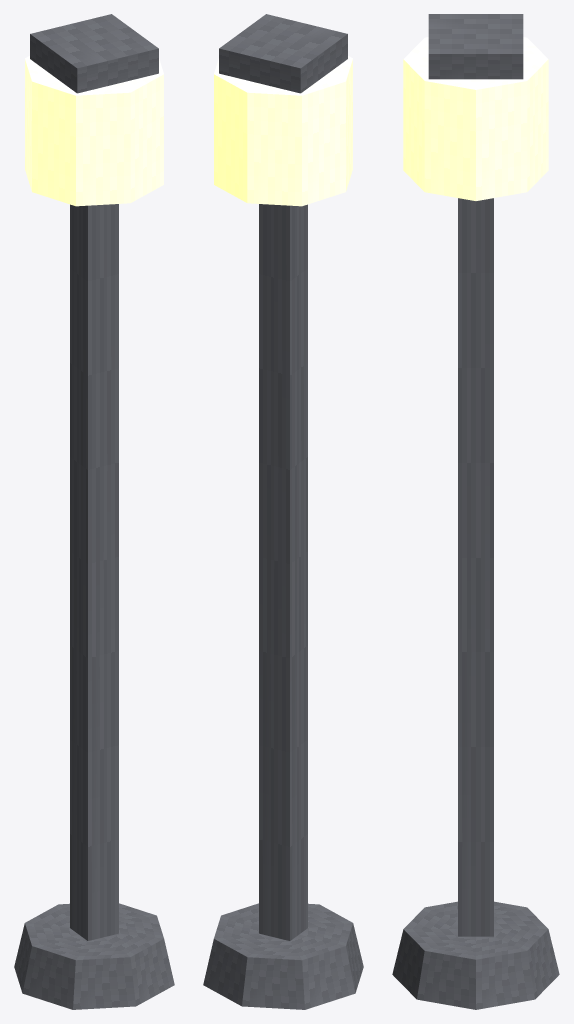
The model's file is pixel-modern-city-street-park-lamp-0a1f35f0__29061.glb.
3 views of the same model, side by side, from view 1: azimuth 30°, elevation 25°; view 2: azimuth 150°, elevation 25°; view 3: azimuth 270°, elevation 25° (orthographic).
Parts seen in each view (by area): view 1: park-lamp; view 2: park-lamp; view 3: park-lamp.
Part boxes in pixels (box(x1,y1,x2,y2)): park-lamp: box(14, 14, 174, 1009); park-lamp: box(203, 14, 363, 1009); park-lamp: box(392, 14, 559, 1009).
Size of the model in its own units: 0.5999 by 3.72 by 0.5999.
2 materials, 2 textured.
